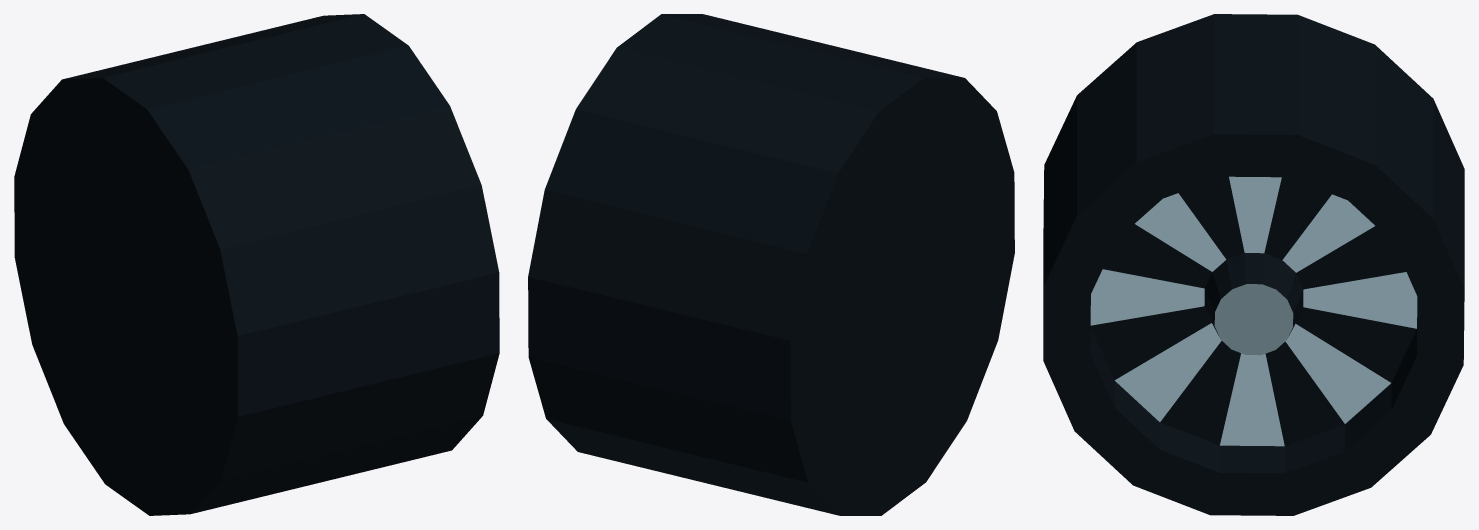
Rendered from car_wheel.glb.
3 views of the same model, side by side, from view 1: azimuth 30°, elevation 25°; view 2: azimuth 150°, elevation 25°; view 3: azimuth 270°, elevation 25° (orthographic). The views are drawn at different scales.
Visible parts, largest first — view 1: Car; view 2: Car; view 3: Car.
Boxes of the visible parts, x1,y1,x2,y2 form: Car: [14, 14, 499, 515]; Car: [528, 14, 1014, 515]; Car: [1043, 14, 1464, 515].
Size of the model in its own units: 1.08 by 1.59 by 1.59.
1 material, 1 textured.
